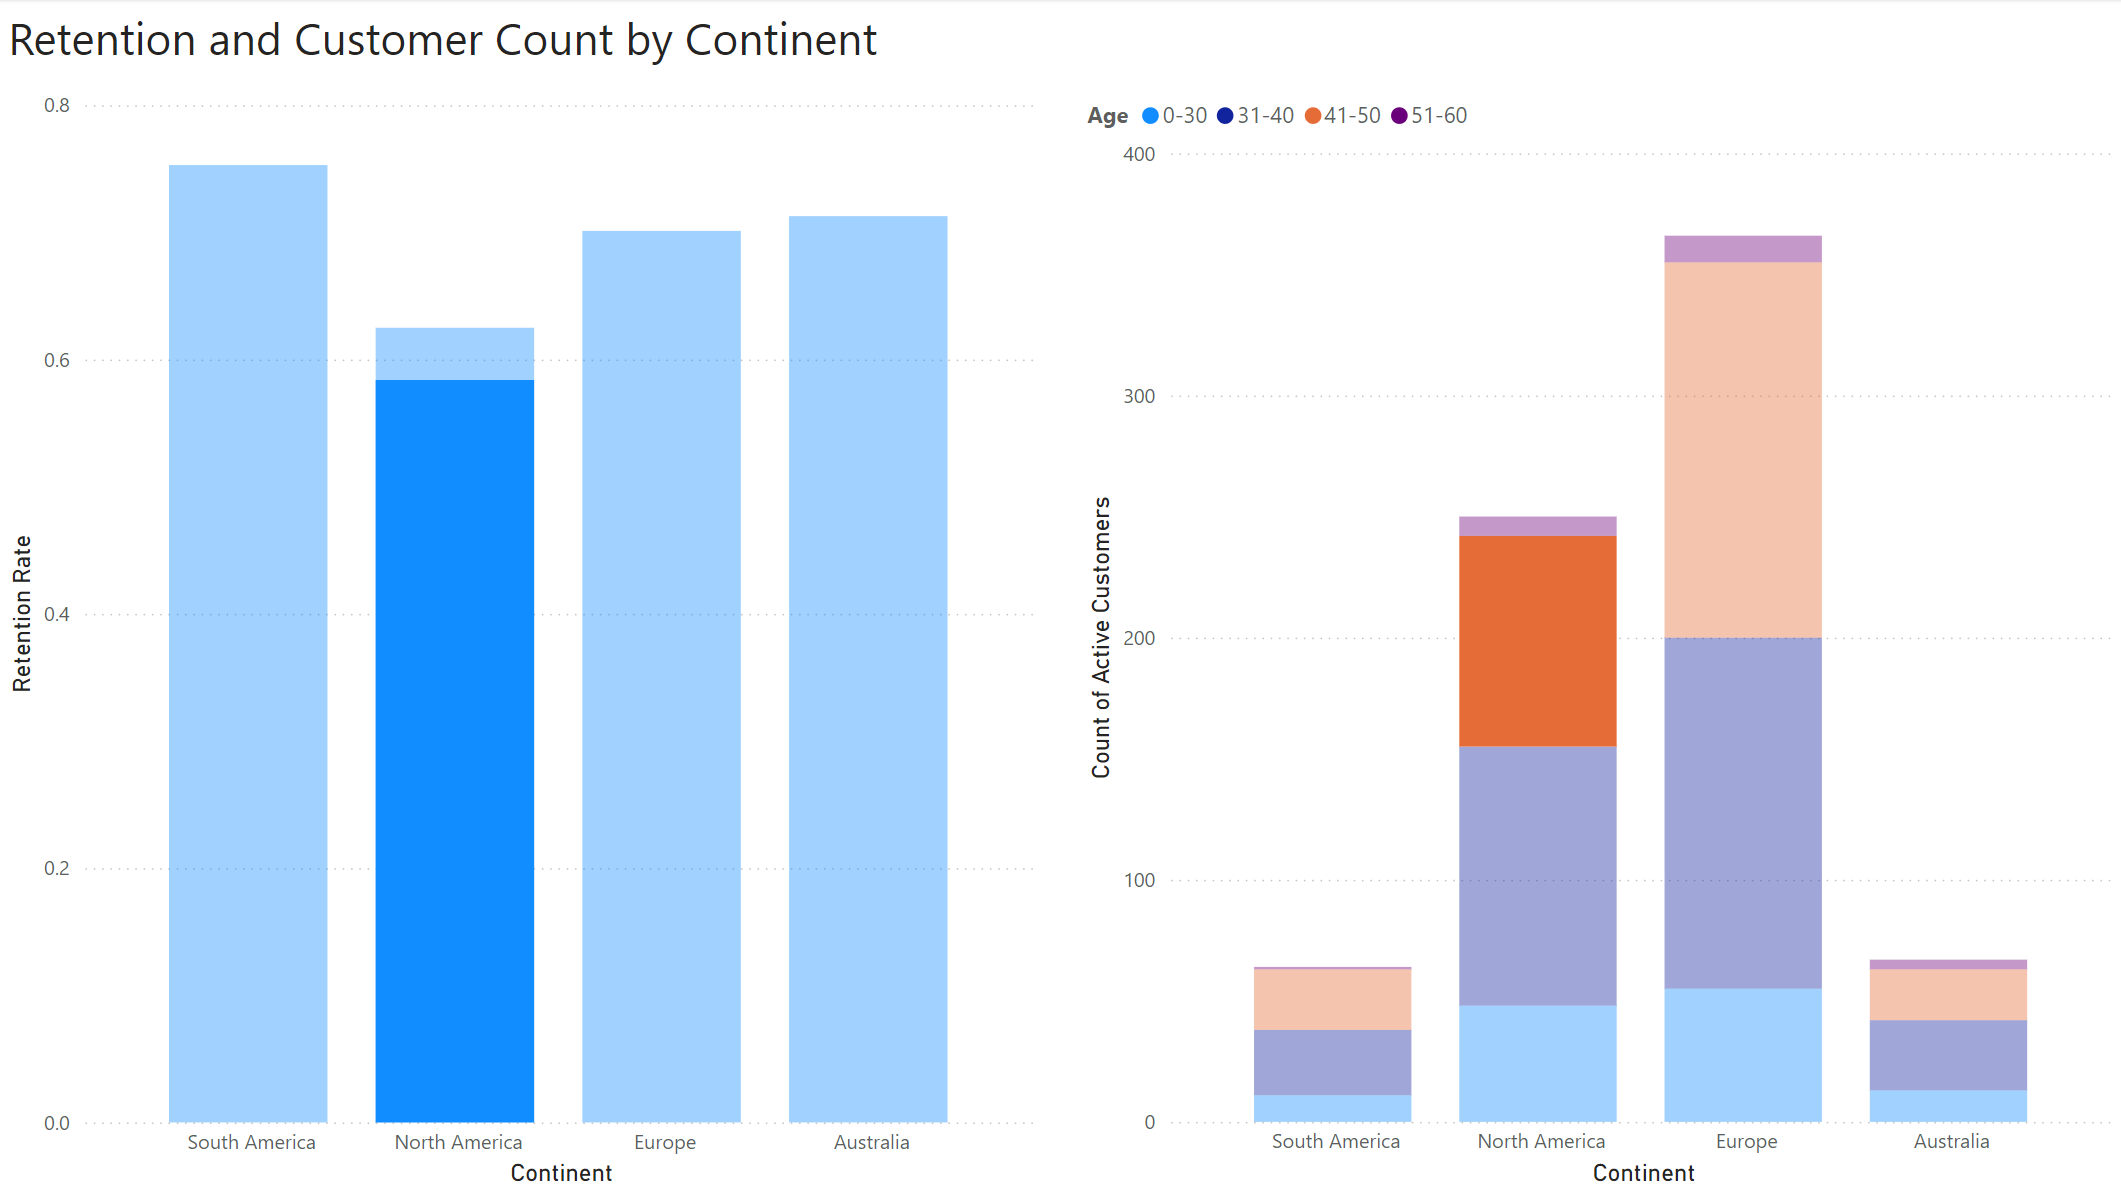

This screenshot's page, from the dashboard's own definition file:
{"tool":"powerbi","page":{"name":"North America Retention","canvas":[1280,720],"ordinal":4},"visuals":[{"type":"clusteredColumnChart","fields":{"Y":["Measures_table.Retention"],"Category":["device-country-continent-age.continent"]},"box":[0,50,630,670],"z":0},{"type":"columnChart","fields":{"Category":["device-country-continent-age.continent"],"Y":["Sum(device-country-continent-age.active)"],"Series":["device-country-continent-age.age_bucket"]},"box":[650,50,630,670],"z":1000},{"type":"textbox","box":[0,0,580,50],"z":2000}]}

Visuals, with their boxes in screenshot pixels (x1, y1, x2, y2), scaled from the page's 1280x720 canvas onto the 2121x1191 screenshot:
clusteredColumnChart - Measures_table.Retention x device-country-continent-age.continent: 0,83,1044,1190
columnChart - device-country-continent-age.continent x Sum(device-country-continent-age.active): 1077,83,2120,1190
textbox: 0,0,961,83
